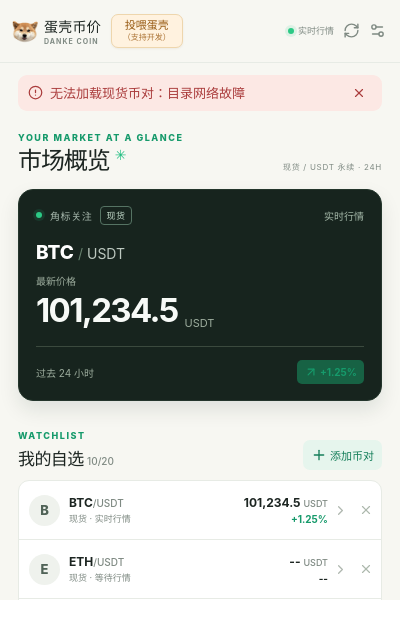
Test: popup › retries a missing symbol catalog on explicit refresh so search recovers
Expected: the message shows "目录网络故障", [50, 85, 245, 101]
Click the button "添加币对". click: (342, 455)
box: [303, 440, 382, 470]
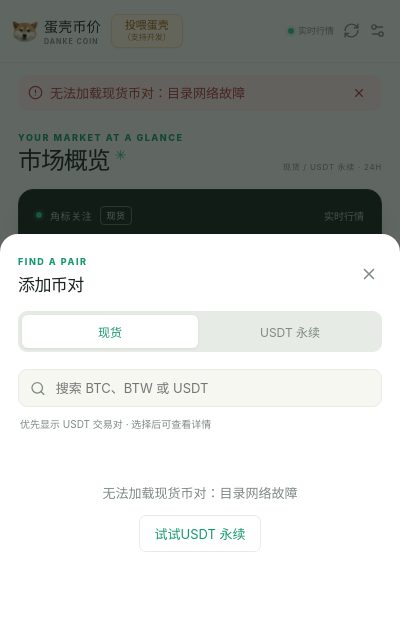
Type "ETHBTC" into the search field. click: (212, 388)
box: [54, 379, 370, 397]
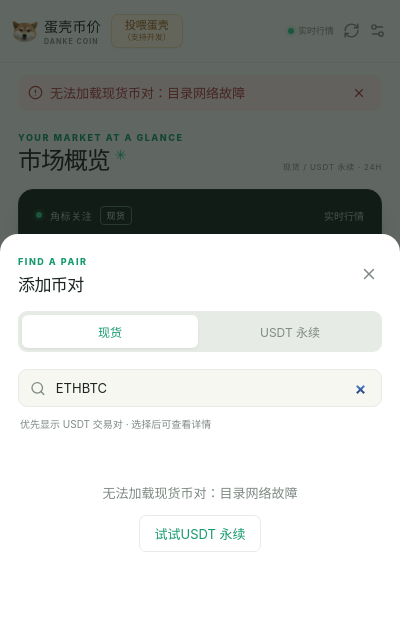
Result: the panel named "现货搜索结果" shows "目录网络故障" at [102, 485, 298, 501]
Click the button named "关闭搜索". click: (368, 274)
box: [354, 260, 382, 288]
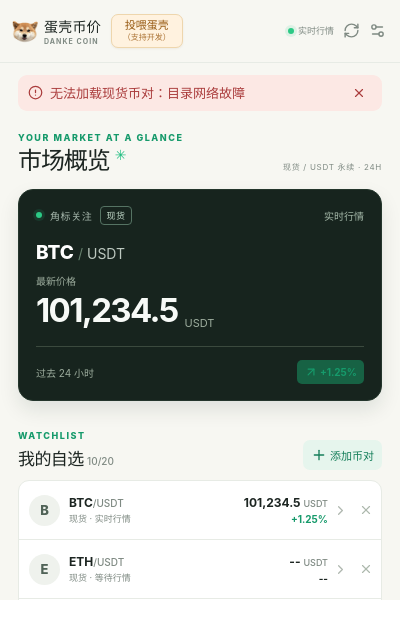
Click the button named "刷新行情". click: (350, 31)
box: [337, 18, 362, 44]
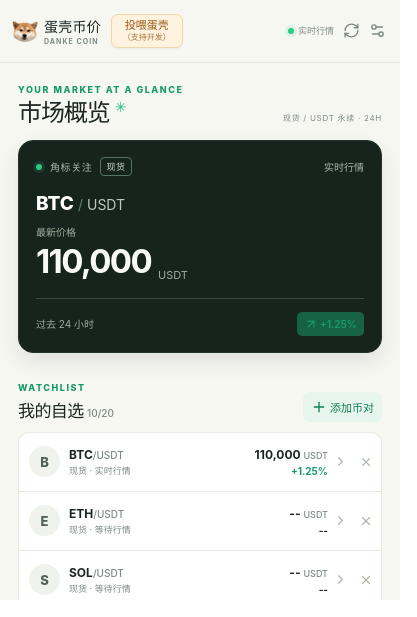
Result: the text "110,000" is shown at [36, 242, 151, 282]
Click the button "添加币对". click: (342, 407)
box: [303, 392, 382, 422]
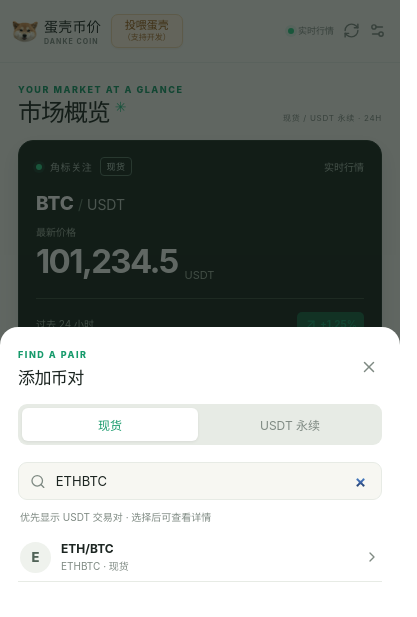
Result: the button with aria-label "选择 ETH/BTC" is shown at [18, 533, 382, 582]
